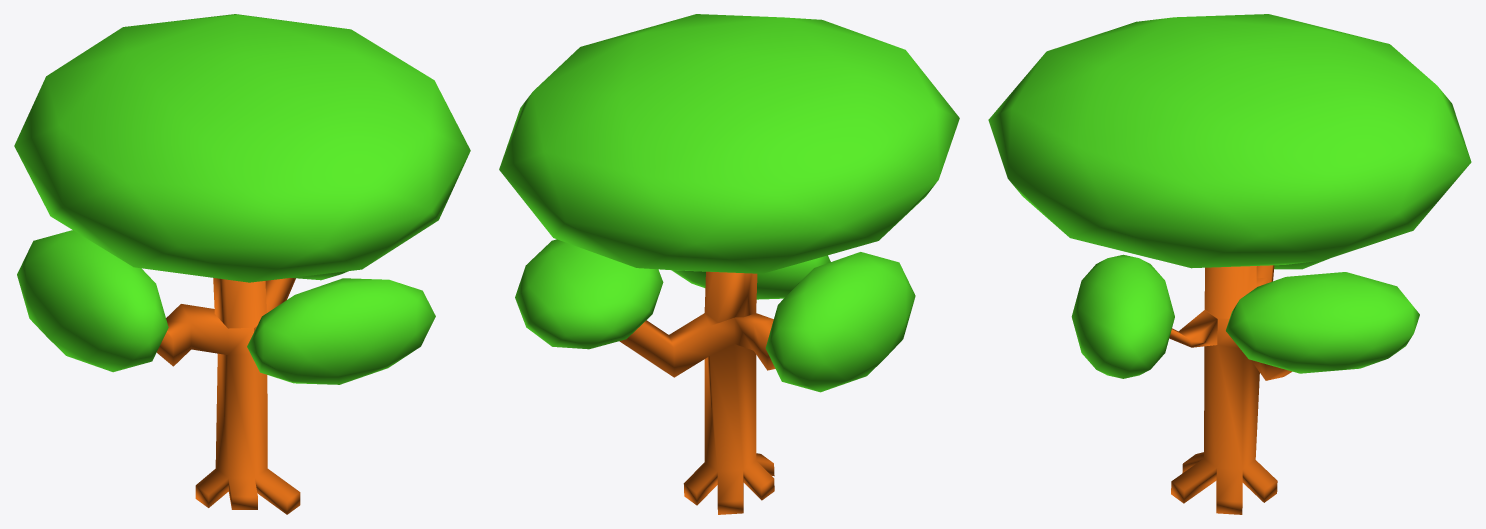
Rendered from tree.fbx.
The picture shows the model from 3 angles, left to right: view 1: azimuth 30°, elevation 25°; view 2: azimuth 150°, elevation 25°; view 3: azimuth 270°, elevation 25°; orthographic projection.
Visible parts, largest first — view 1: Icosphere, Cylinder, Icosphere.003, Icosphere.002; view 2: Icosphere, Cylinder, Icosphere.002, Icosphere.001, Icosphere.003; view 3: Icosphere, Icosphere.001, Cylinder, Icosphere.003.
Part boxes in pixels (left/top/right/bottom): Icosphere: left=14, top=14, right=470, bottom=282; Cylinder: left=156, top=278, right=300, bottom=514; Icosphere.003: left=247, top=278, right=435, bottom=384; Icosphere.002: left=17, top=230, right=168, bottom=372; Icosphere: left=499, top=14, right=959, bottom=273; Cylinder: left=619, top=271, right=775, bottom=514; Icosphere.002: left=765, top=252, right=915, bottom=392; Icosphere.001: left=515, top=239, right=663, bottom=349; Icosphere.003: left=672, top=255, right=830, bottom=299; Icosphere: left=988, top=14, right=1471, bottom=268; Icosphere.001: left=1226, top=272, right=1419, bottom=373; Cylinder: left=1169, top=265, right=1291, bottom=514; Icosphere.003: left=1071, top=254, right=1174, bottom=378.
Size of the model in its own units: 868 by 955 by 934.
